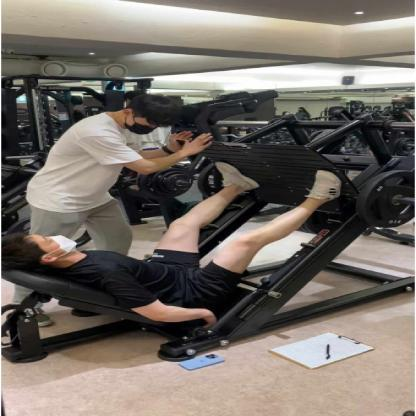leg press: (0, 84, 416, 383)
